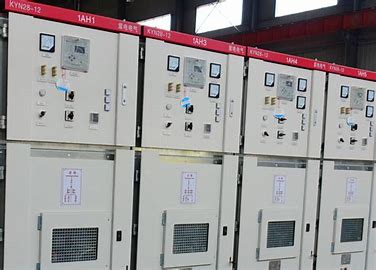pointer: (39, 33, 54, 51), (168, 55, 179, 70), (210, 62, 221, 76), (210, 84, 220, 98), (298, 77, 307, 91), (297, 96, 306, 109), (265, 73, 274, 85), (365, 105, 373, 116), (341, 86, 348, 97), (366, 90, 373, 100)
